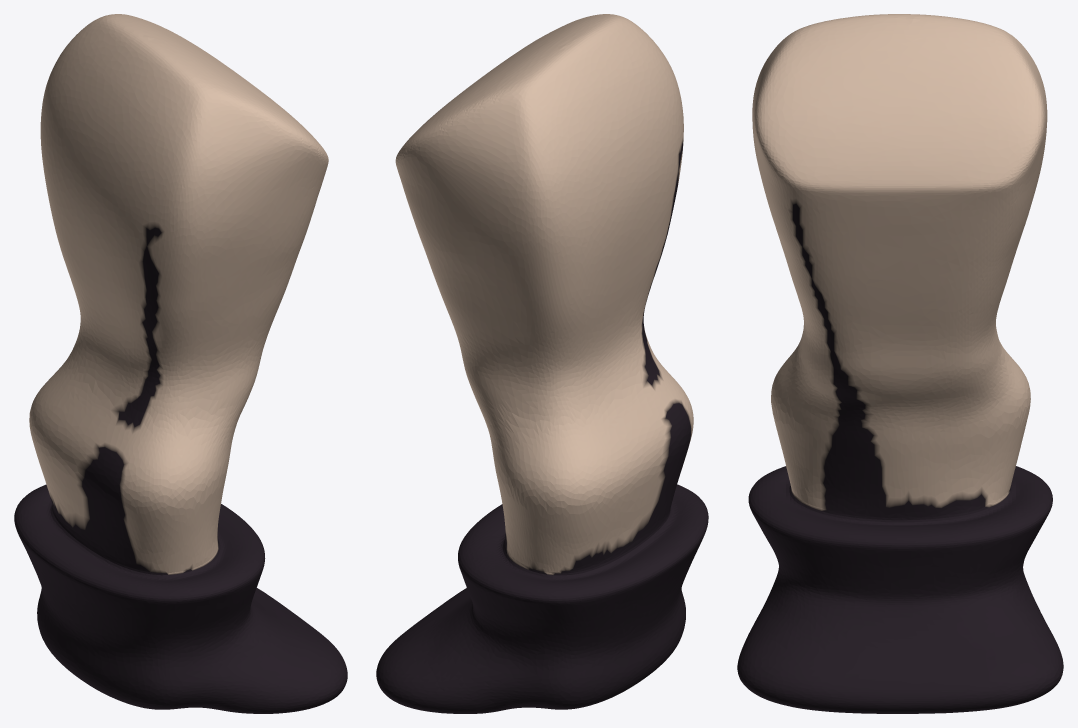
Rendered from leg_L.glb.
3 views of the same model, side by side, from view 1: azimuth 30°, elevation 25°; view 2: azimuth 150°, elevation 25°; view 3: azimuth 270°, elevation 25° (orthographic).
Parts seen in each view (by area): view 1: geometry_0; view 2: geometry_0; view 3: geometry_0.
Part boxes in pixels (left/top/right/bottom): geometry_0: left=14, top=14, right=347, bottom=713; geometry_0: left=376, top=14, right=708, bottom=713; geometry_0: left=737, top=14, right=1063, bottom=713.
Bounding box in the file's own units: 0.224 × 0.5321 × 0.2487.
